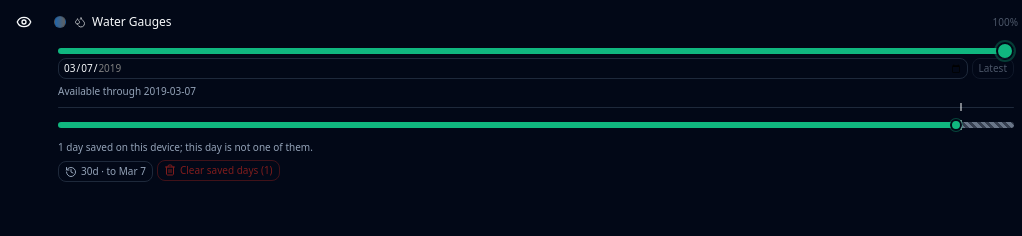
Scenario: layer sync reset control › cancels on Escape as well as on the Cancel button
The image size is (1022, 236).
Click the button with test id "layer-sync-reset-water" at point(218, 170), box [157,160,280,180]
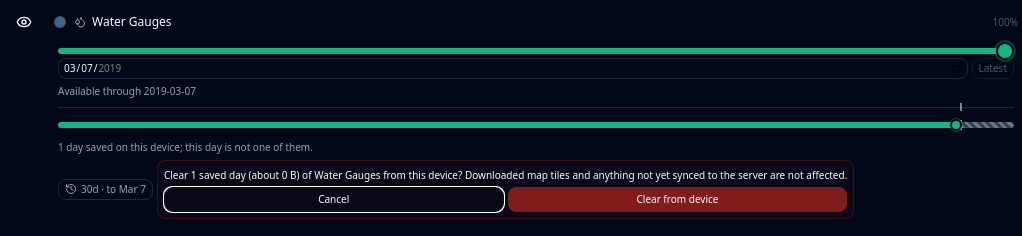
Press Escape in the element with test id "layer-sync-reset-confirm-water", box [157,160,854,219]
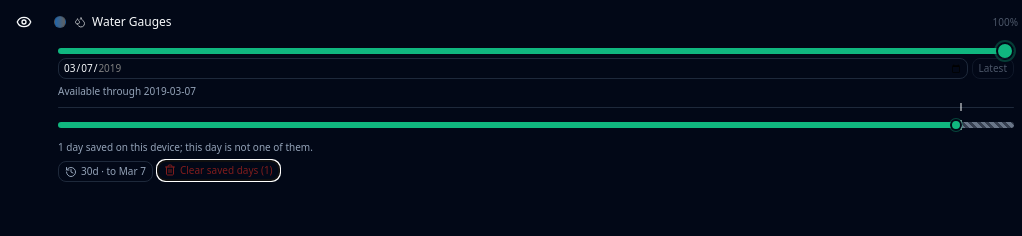
Expected: the element with test id "layer-sync-reset-confirm-water" is gone
